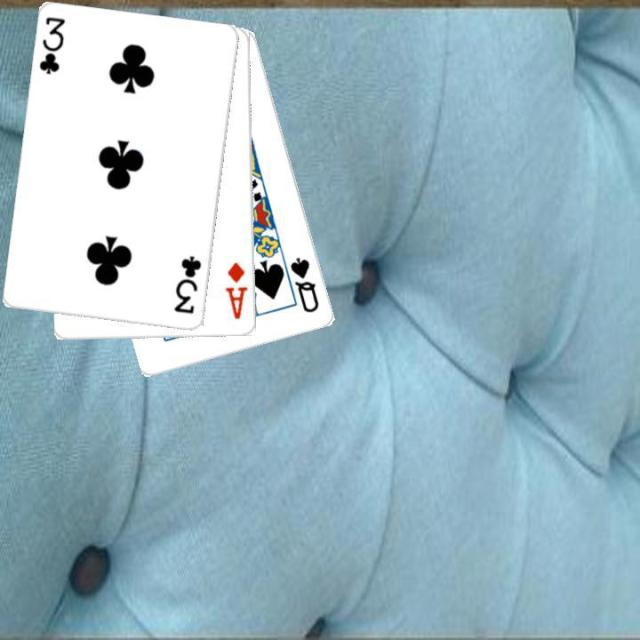3C: (170, 252, 203, 316), (36, 13, 68, 78)
AD: (222, 259, 250, 321)
QS: (286, 253, 322, 315)
